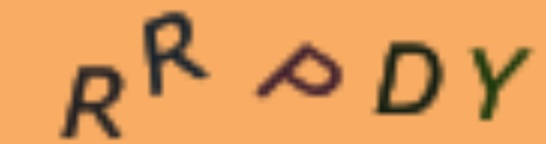D: (367, 38, 447, 122)
P: (256, 38, 346, 101)
R: (142, 7, 212, 100), (58, 61, 132, 144)
Y: (461, 41, 532, 125)
